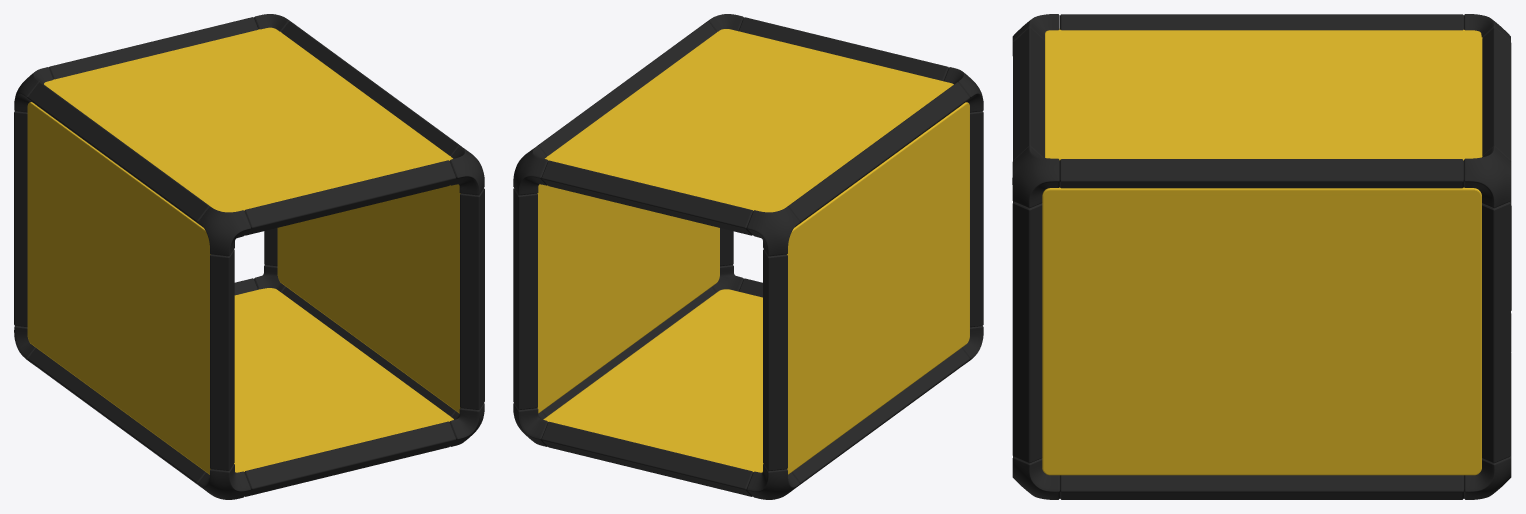
The picture shows the model from 3 angles, left to right: view 1: azimuth 30°, elevation 25°; view 2: azimuth 150°, elevation 25°; view 3: azimuth 270°, elevation 25°; orthographic projection. The views are drawn at different scales.
Visible parts, largest first — view 1: 229x329x229; view 2: 229x329x229; view 3: 229x329x229.
Boxes of the visible parts, x1,y1,x2,y2 form: 229x329x229: [14, 14, 484, 499]; 229x329x229: [513, 14, 983, 499]; 229x329x229: [1012, 14, 1511, 499].
Bounding box in the file's own units: 0.3067 × 0.3066 × 0.4063.
